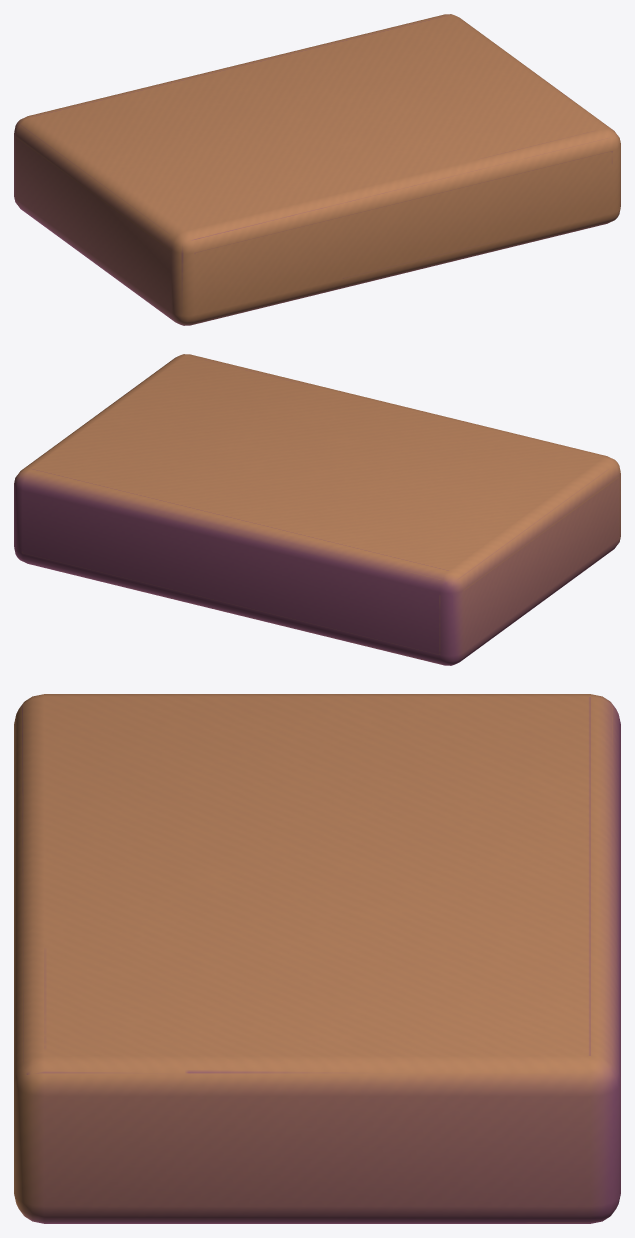
File: Package_Small.fbx
The picture shows the model from 3 angles, top to bottom: view 1: azimuth 30°, elevation 25°; view 2: azimuth 150°, elevation 25°; view 3: azimuth 270°, elevation 25°; orthographic projection. The views are drawn at different scales.
Parts seen in each view (by area): view 1: Package_Small; view 2: Package_Small; view 3: Package_Small.
Boxes of the visible parts, box(x1,y1,x2,y2) form: Package_Small: box(14, 14, 620, 325); Package_Small: box(14, 354, 620, 665); Package_Small: box(14, 694, 620, 1223).
Size of the model in its own units: 15 by 3 by 10.
